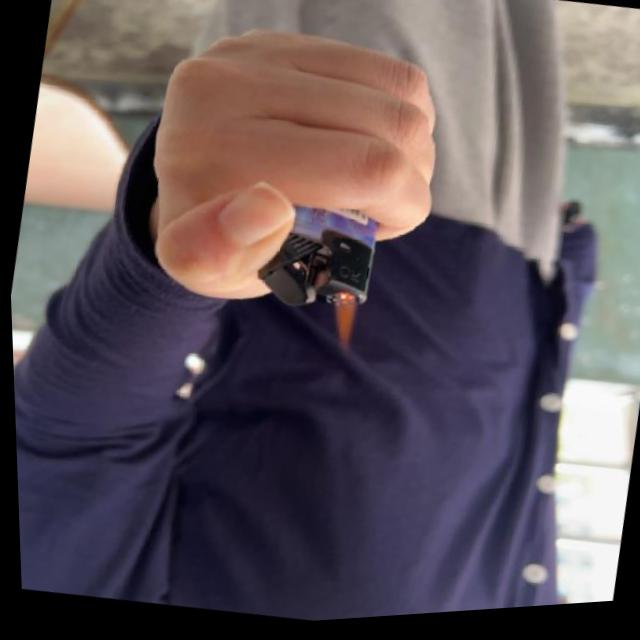Fire: (324, 295, 356, 360)
